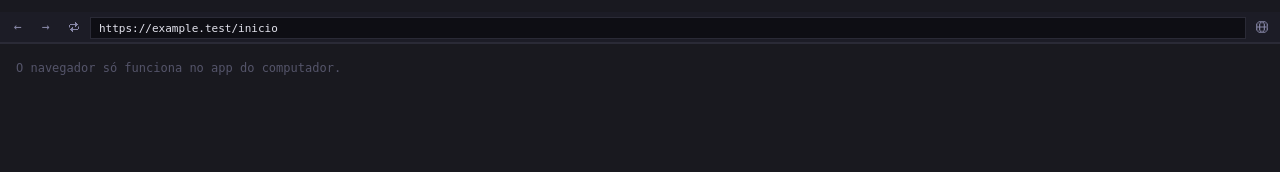
Scenario: mostra erro nativo e limpa o aviso na próxima ação
Click the button named "Recarregar" at [74, 27], box [62,15,86,39]
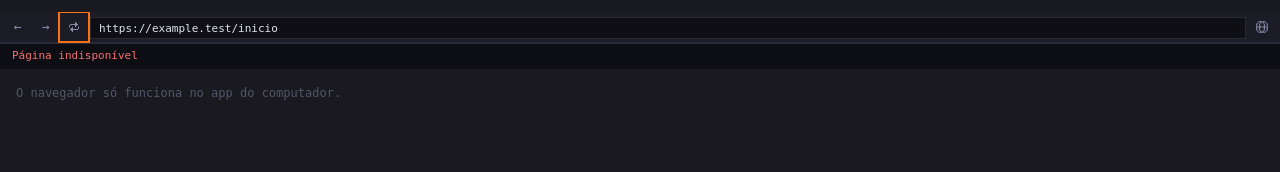
Expected: the message reads "Página indisponível", [12,49,138,62]
Click the button named "Voltar" at [18, 27], box [6,15,30,39]
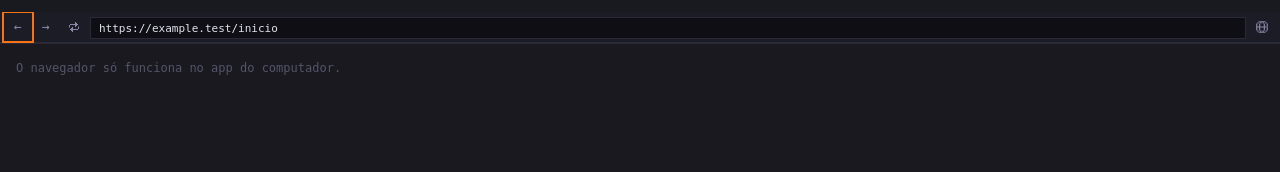
Expected: the message "Página indisponível" is gone
